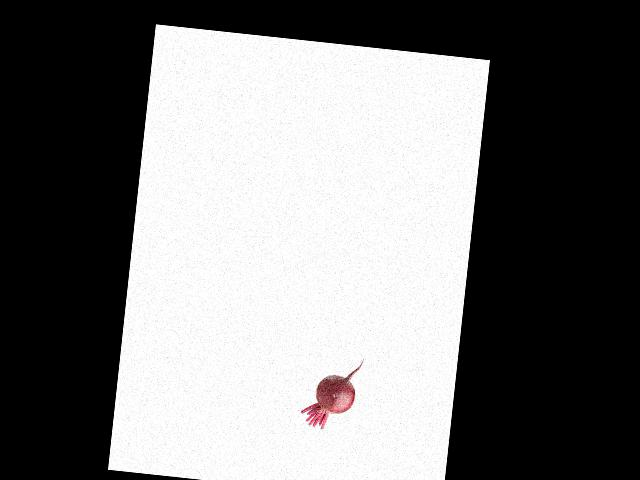beet: (298, 353, 364, 432)
